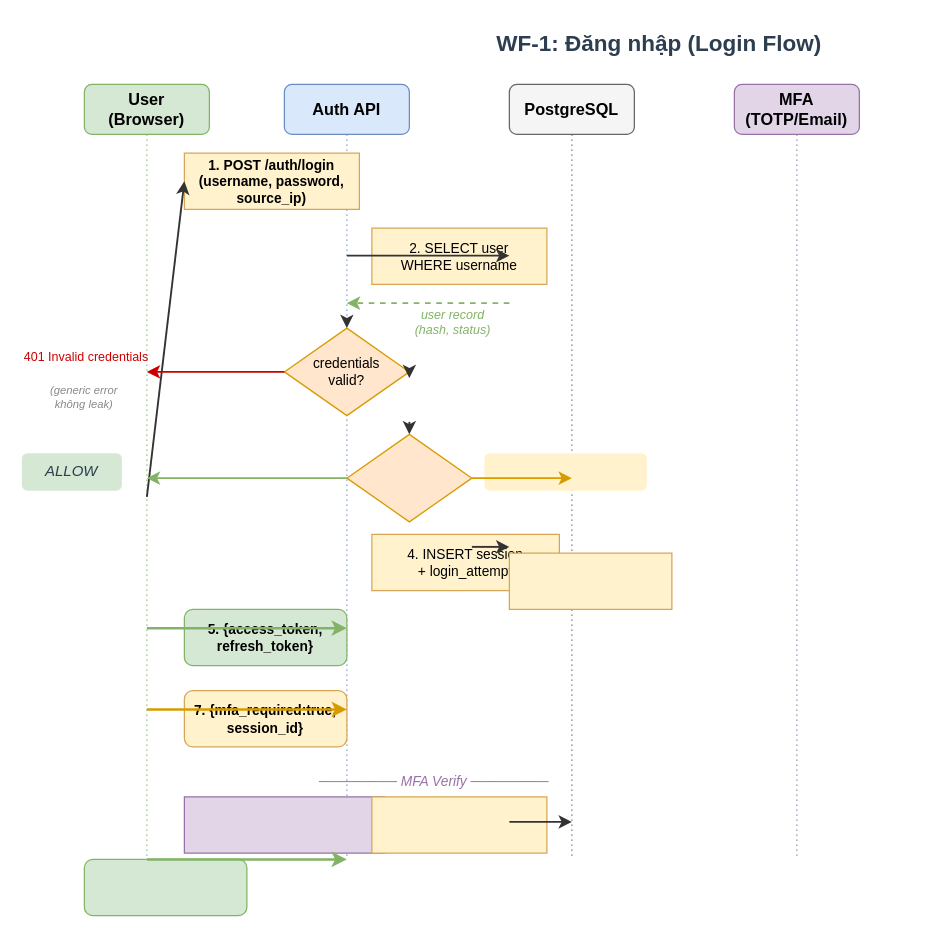
The diagram is 930 pixels wide and 938 high, and some of its shapes have lost their labels. The box of each missing label's shape, as (x1, y1, x2, y2) in pixels:
10. {access_token, refresh_token}: (83, 858, 247, 916)
6. INSERT pre_auth_transaction: (508, 552, 672, 609)
8. POST /auth/mfa/verify (session_id, mfa_code): (183, 796, 384, 853)
9. SELECT pre_auth_transaction: (371, 796, 547, 853)
MFA enabled?: (346, 433, 472, 522)
MFA_REQUIRED: (484, 452, 646, 490)
